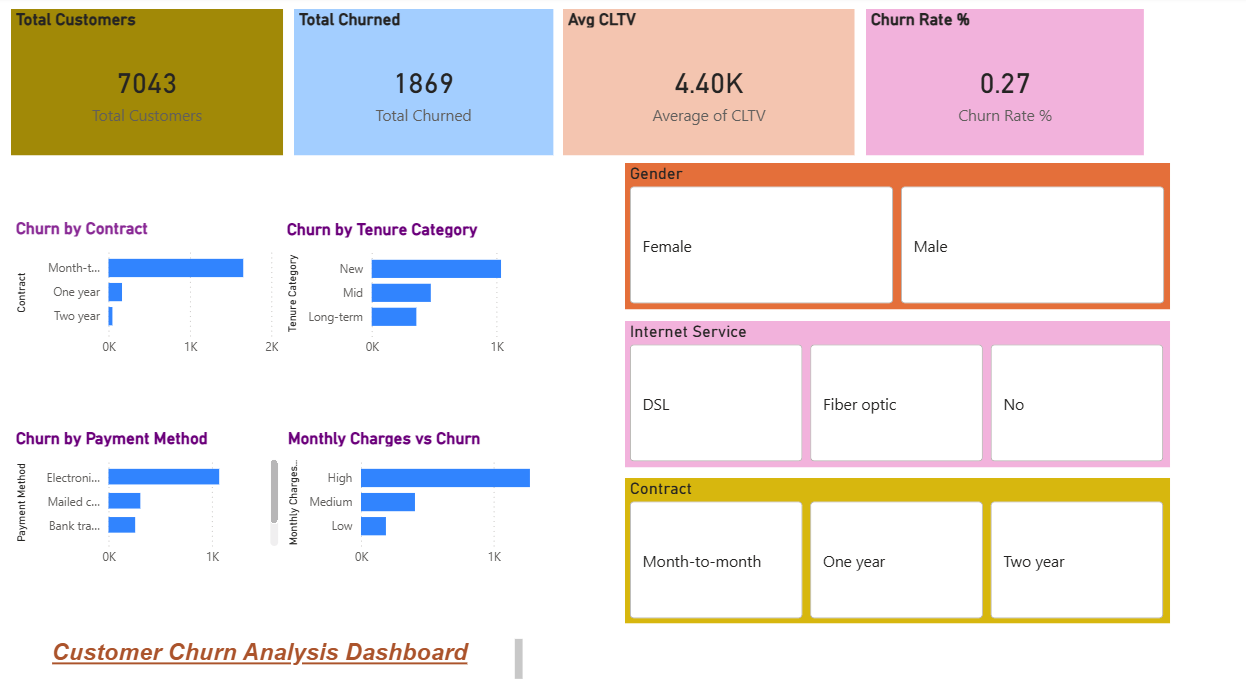

What the dashboard file says about the page in this screenshot:
{"tool":"powerbi","page":{"name":"Customer Churn Analysis Dashboard","canvas":[1280,720],"ordinal":0},"visuals":[{"type":"card","title":"Total Customers","fields":{"Values":["Telco_customer_churn_cleaned.Churn Rate %"]},"box":[11,12,279,150],"z":0},{"type":"barChart","title":"Churn by Contract","fields":{"Y":["Sum(Telco_customer_churn_cleaned.Churn Value)"],"Category":["Telco_customer_churn_cleaned.Contract"]},"box":[11,227,279,150],"z":2000},{"type":"barChart","title":"Churn by Payment Method","fields":{"Y":["Sum(Telco_customer_churn_cleaned.Churn Value)"],"Category":["Telco_customer_churn_cleaned.Payment Method"]},"box":[11,442,279,150],"z":3000},{"type":"barChart","title":"Churn by Tenure Category","fields":{"Y":["Sum(Telco_customer_churn_cleaned.Churn Value)"],"Category":["Telco_customer_churn_cleaned.Tenure Category"]},"box":[289.6,227.3,295.9,149.5],"z":4000},{"type":"barChart","title":"Monthly Charges vs Churn","fields":{"Category":["Telco_customer_churn_cleaned.Monthly Charges Category"],"Y":["Sum(Telco_customer_churn_cleaned.Churn Value)"]},"box":[290,442,296,150],"z":5000},{"type":"advancedSlicerVisual","fields":{"Values":["Telco_customer_churn_cleaned.Gender"]},"box":[641,170.3,559,149.7],"z":7000},{"type":"advancedSlicerVisual","fields":{"Values":["Telco_customer_churn_cleaned.Internet Service"]},"box":[641,332.3,559,149.7],"z":8000},{"type":"advancedSlicerVisual","fields":{"Values":["Telco_customer_churn_cleaned.Contract"]},"box":[640.5,493.1,558.5,149.5],"z":9000},{"type":"card","title":"Avg CLTV","fields":{"Values":["Avg(Telco_customer_churn_cleaned.CLTV)"]},"box":[577.4,12.3,299.5,149.7],"z":9001},{"type":"card","title":"Churn Rate %","fields":{"Values":["Telco_customer_churn_cleaned.Churn Rate %"]},"box":[888.2,12.3,285.1,149.7],"z":9002},{"type":"card","title":"Total Churned","fields":{"Values":["Telco_customer_churn_cleaned.Churn Rate %"]},"box":[301.5,12.3,265.6,149.7],"z":9003},{"type":"textbox","box":[0,653.3,540.5,53.3],"z":9004}]}

Visuals, with their boxes in screenshot pixels (x1, y1, x2, y2), scaled from the page's 1280x720 canvas onto the 1246x685 screenshot:
"Total Customers" card: rect(11, 11, 282, 154)
"Churn by Contract" barChart: rect(11, 216, 282, 359)
"Churn by Payment Method" barChart: rect(11, 421, 282, 563)
"Churn by Tenure Category" barChart: rect(282, 216, 570, 358)
"Monthly Charges vs Churn" barChart: rect(282, 421, 570, 563)
advancedSlicerVisual - Telco_customer_churn_cleaned.Gender: rect(624, 162, 1168, 304)
advancedSlicerVisual - Telco_customer_churn_cleaned.Internet Service: rect(624, 316, 1168, 459)
advancedSlicerVisual - Telco_customer_churn_cleaned.Contract: rect(623, 469, 1167, 611)
"Avg CLTV" card: rect(562, 12, 854, 154)
"Churn Rate %" card: rect(865, 12, 1142, 154)
"Total Churned" card: rect(293, 12, 552, 154)
textbox: rect(0, 622, 526, 672)
